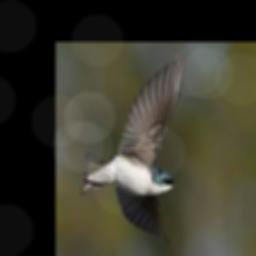Swallow: (81, 56, 185, 243)
